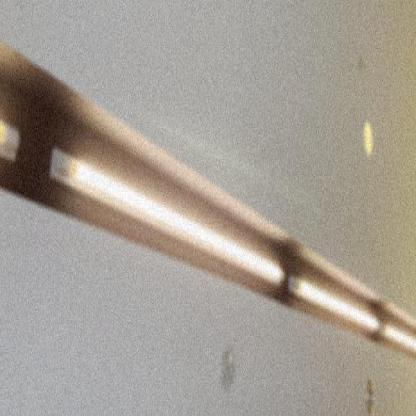light_on: (46, 139, 284, 306), (286, 241, 384, 348), (382, 310, 416, 364), (0, 108, 28, 173)
